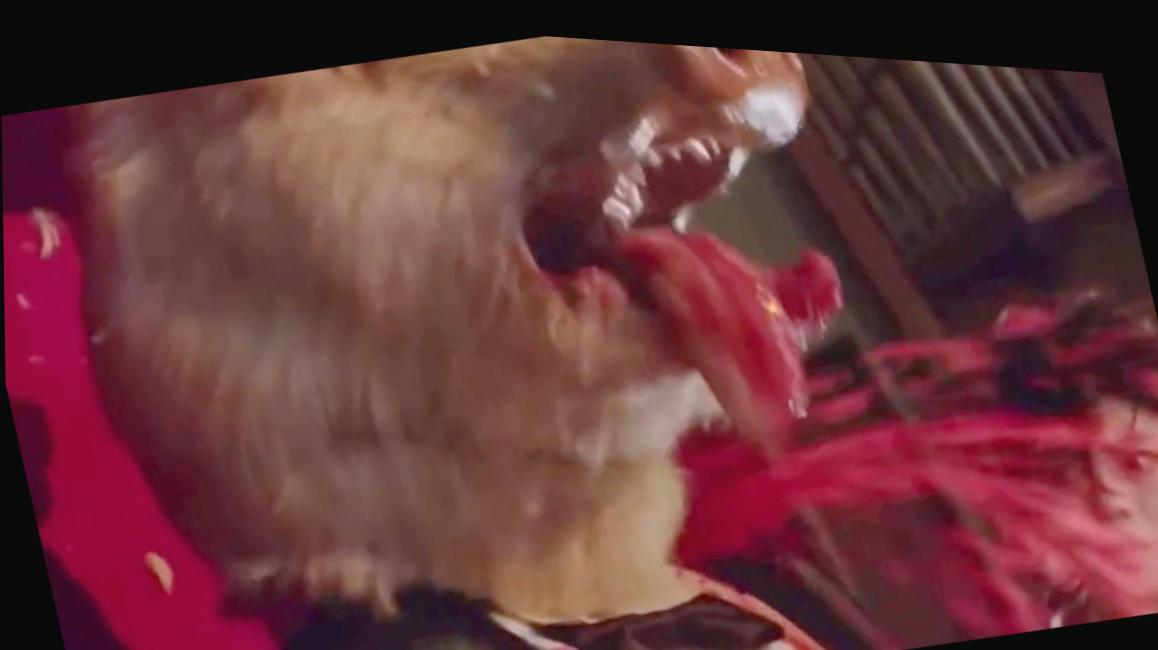Fire: (490, 109, 1158, 650)
